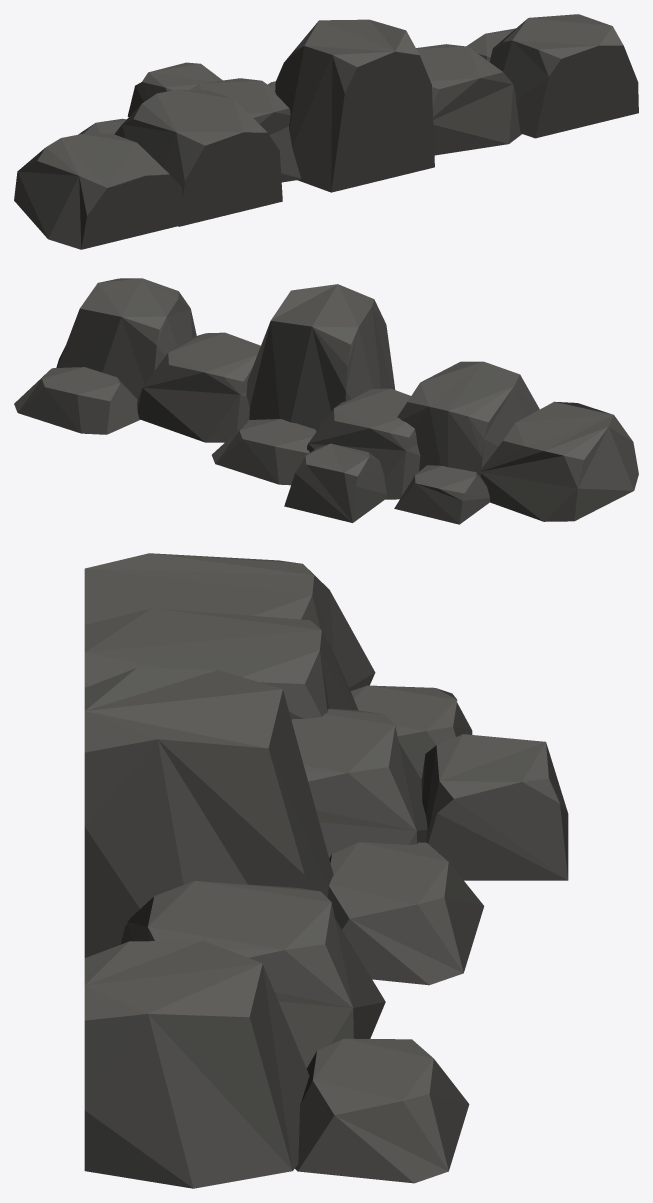
The model's file is SM_Prop_Rock_Edge_02.fbx.
3 views of the same model, one above another, from view 1: azimuth 30°, elevation 25°; view 2: azimuth 150°, elevation 25°; view 3: azimuth 270°, elevation 25° (orthographic). The views are drawn at different scales.
Visible parts, largest first — view 1: SM_Prop_Rock_Edge_02; view 2: SM_Prop_Rock_Edge_02; view 3: SM_Prop_Rock_Edge_02.
Boxes of the visible parts, <box> form: SM_Prop_Rock_Edge_02: <box>14,14,638,249</box>; SM_Prop_Rock_Edge_02: <box>14,278,638,524</box>; SM_Prop_Rock_Edge_02: <box>84,553,568,1188</box>.
Size of the model in its own units: 94.05 by 19.09 by 34.77.
